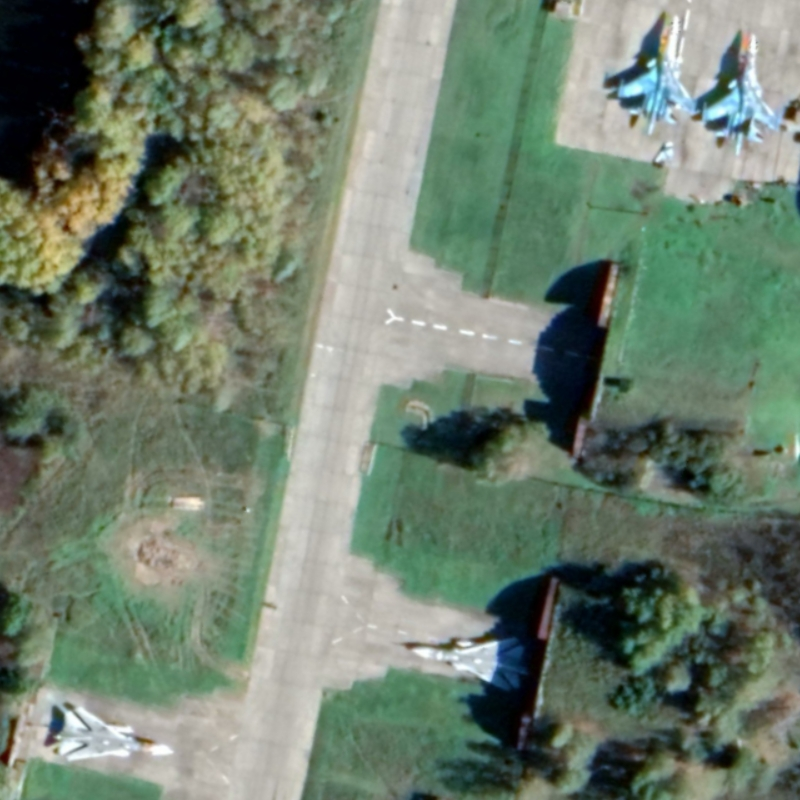A19: (614, 11, 702, 137), (699, 31, 786, 157)
A20: (54, 702, 178, 765), (407, 635, 530, 694)
